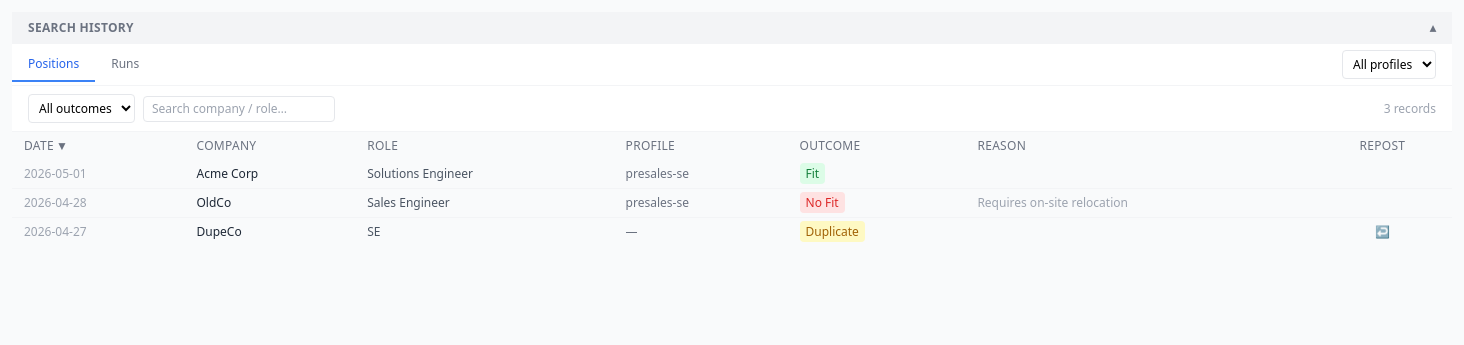
Test case: SearchView — Runs tab › switches to Run History table after clicking Runs tab
The width and height of the screenshot is (1464, 345).
What coordinates should you click on to do the following:
click the button "Runs"
I would click on:
 (125, 64)
Its box is 95,48 -> 155,82.
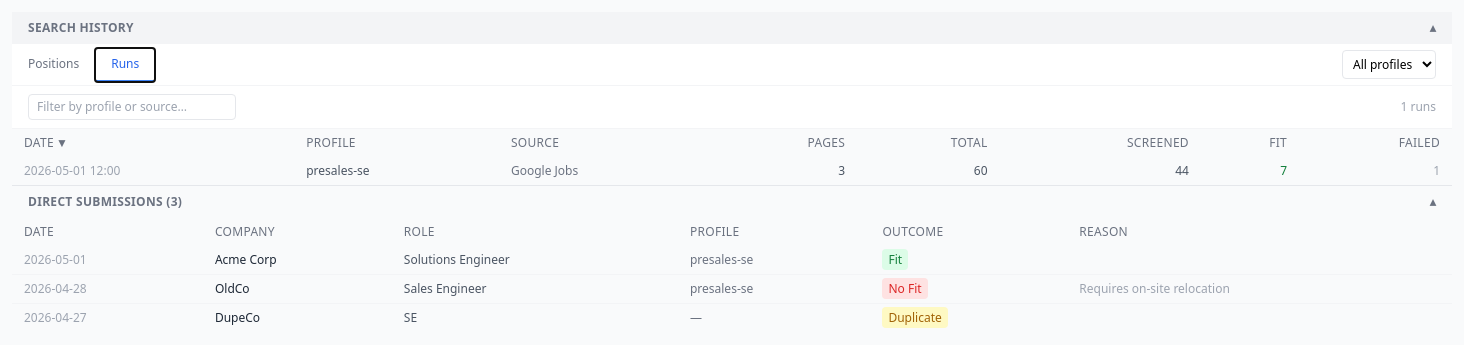
Check: the column heading "Screened" is shown, box 1000,129 -> 1201,157
Check: the column heading "Failed" is shown, box 1299,129 -> 1452,157
